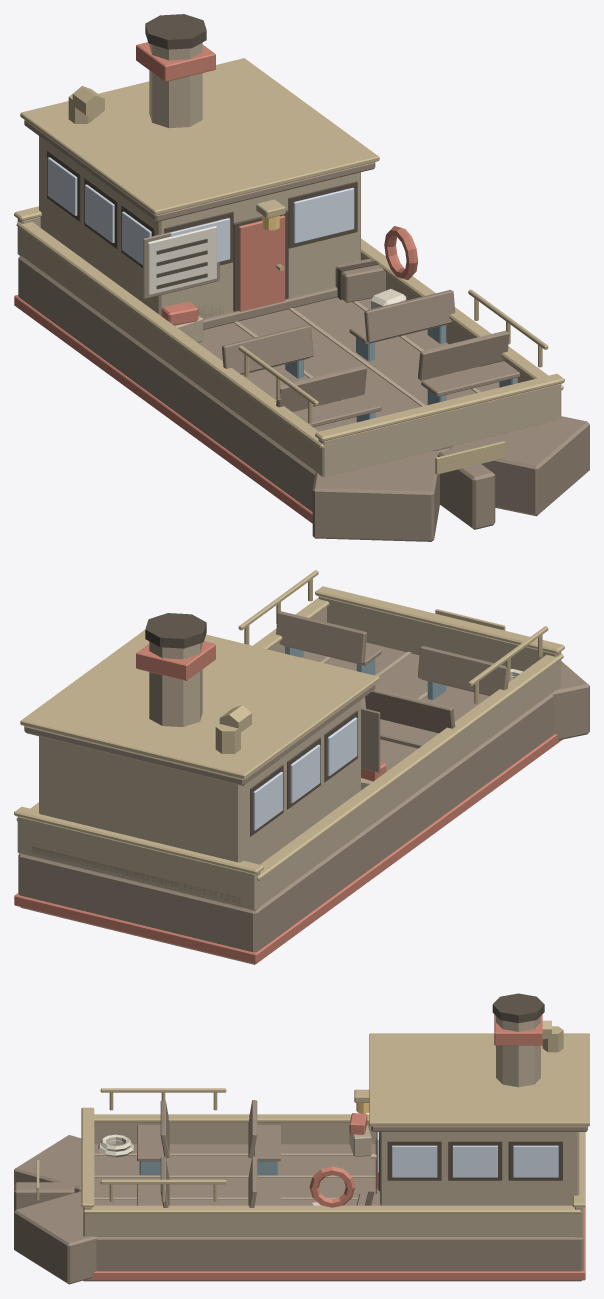
The model's file is ferry.glb.
3 renders of one model, top to bottom at view 1: azimuth 30°, elevation 25°; view 2: azimuth 150°, elevation 25°; view 3: azimuth 270°, elevation 25°, orthographic. The views are drawn at different scales.
Visible parts, largest first — view 1: ferry_roof_lip, ferry_cabin, ferry_hull, ferry_deck, ferry_bow_cheek, ferry_bulwark_bow, ferry_bulwark_side, ferry_bow_cheek.001, ferry_caprail_side, ferry_door, ferry_boot_stripe, ferry_funnel (+29 smaller); view 2: ferry_roof_lip, ferry_hull, ferry_cabin, ferry_bulwark_stern, ferry_bulwark_side, ferry_boot_stripe, ferry_bulwark_bow, ferry_caprail_side, ferry_deck, ferry_funnel, ferry_bench_stbd_fwd_back, ferry_caprail_bow (+21 smaller); view 3: ferry_hull, ferry_roof_lip, ferry_bulwark_side.001, ferry_deck, ferry_cabin, ferry_bow_cheek.001, ferry_boot_stripe, ferry_bulwark_side, ferry_caprail_side.001, ferry_bow_cheek, ferry_caprail_side, ferry_funnel (+27 smaller).
Boxes of the visible parts, x1,y1,x2,y2 form: ferry_roof_lip: [20, 58, 379, 215]; ferry_cabin: [39, 136, 360, 318]; ferry_hull: [18, 256, 450, 511]; ferry_deck: [198, 297, 554, 475]; ferry_bow_cheek: [312, 451, 439, 541]; ferry_bulwark_bow: [318, 383, 561, 476]; ferry_bulwark_side: [19, 228, 330, 476]; ferry_bow_cheek.001: [449, 416, 589, 516]; ferry_caprail_side: [16, 222, 333, 448]; ferry_door: [238, 215, 285, 311]; ferry_boot_stripe: [14, 295, 312, 523]; ferry_funnel: [149, 42, 202, 128]; ferry_roof_lip: [20, 630, 379, 779]; ferry_hull: [18, 694, 553, 964]; ferry_cabin: [39, 700, 360, 864]; ferry_bulwark_stern: [17, 816, 260, 910]; ferry_bulwark_side: [258, 660, 561, 907]; ferry_boot_stripe: [14, 734, 562, 964]; ferry_bulwark_bow: [318, 596, 561, 689]; ferry_caprail_side: [257, 654, 563, 880]; ferry_deck: [302, 642, 510, 771]; ferry_funnel: [149, 641, 202, 726]; ferry_bench_stbd_fwd_back: [276, 611, 366, 664]; ferry_caprail_bow: [315, 586, 564, 654]; ferry_hull: [83, 1236, 583, 1281]; ferry_roof_lip: [369, 1033, 589, 1126]; ferry_bulwark_side.001: [83, 1214, 579, 1236]; ferry_deck: [94, 1144, 375, 1205]; ferry_cabin: [380, 1132, 579, 1205]; ferry_bow_cheek.001: [14, 1191, 98, 1284]; ferry_boot_stripe: [84, 1206, 585, 1280]; ferry_bulwark_side: [94, 1122, 376, 1144]; ferry_caprail_side.001: [83, 1205, 581, 1213]; ferry_bow_cheek: [14, 1135, 81, 1192]; ferry_caprail_side: [94, 1114, 369, 1122]; ferry_funnel: [496, 1016, 540, 1087].
Bounding box in the file's own units: 6.01 × 5.87 × 13.3.
